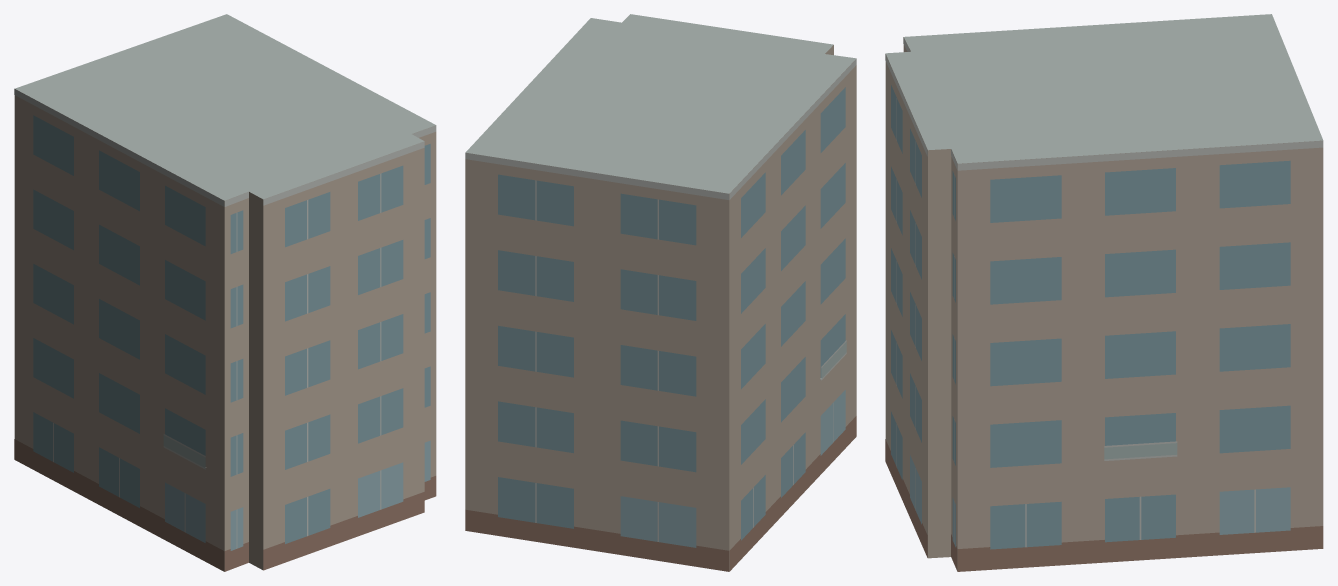
Rendered from survey-upis-32840918.glb.
3 views of the same model, side by side, from view 1: azimuth 30°, elevation 25°; view 2: azimuth 150°, elevation 25°; view 3: azimuth 270°, elevation 25° (orthographic). The views are drawn at different scales.
Parts seen in each view (by area): view 1: survey-upis-32840918.tmp; view 2: survey-upis-32840918.tmp; view 3: survey-upis-32840918.tmp.
Boxes of the visible parts, <box> form: survey-upis-32840918.tmp: <box>14,14,436,571</box>; survey-upis-32840918.tmp: <box>465,14,856,571</box>; survey-upis-32840918.tmp: <box>885,14,1323,571</box>.
Bounding box in the file's own units: 11.22 × 14.25 × 13.87.
